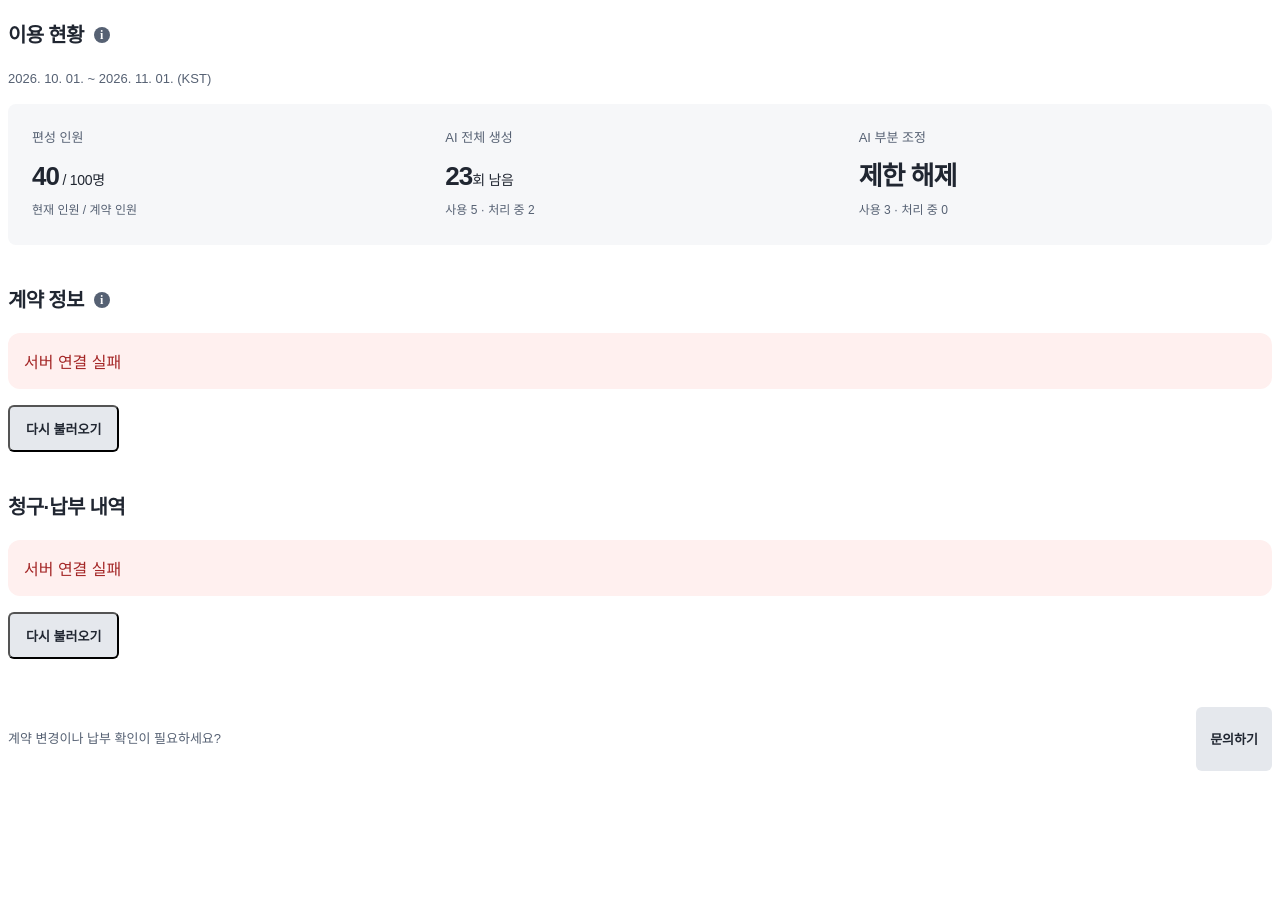
it: hospital usage and contract › shows empty records and retries each failing query independently
Click the button "다시 불러오기" below "계약 정보": coordinates (64, 428) [8,405,119,452]
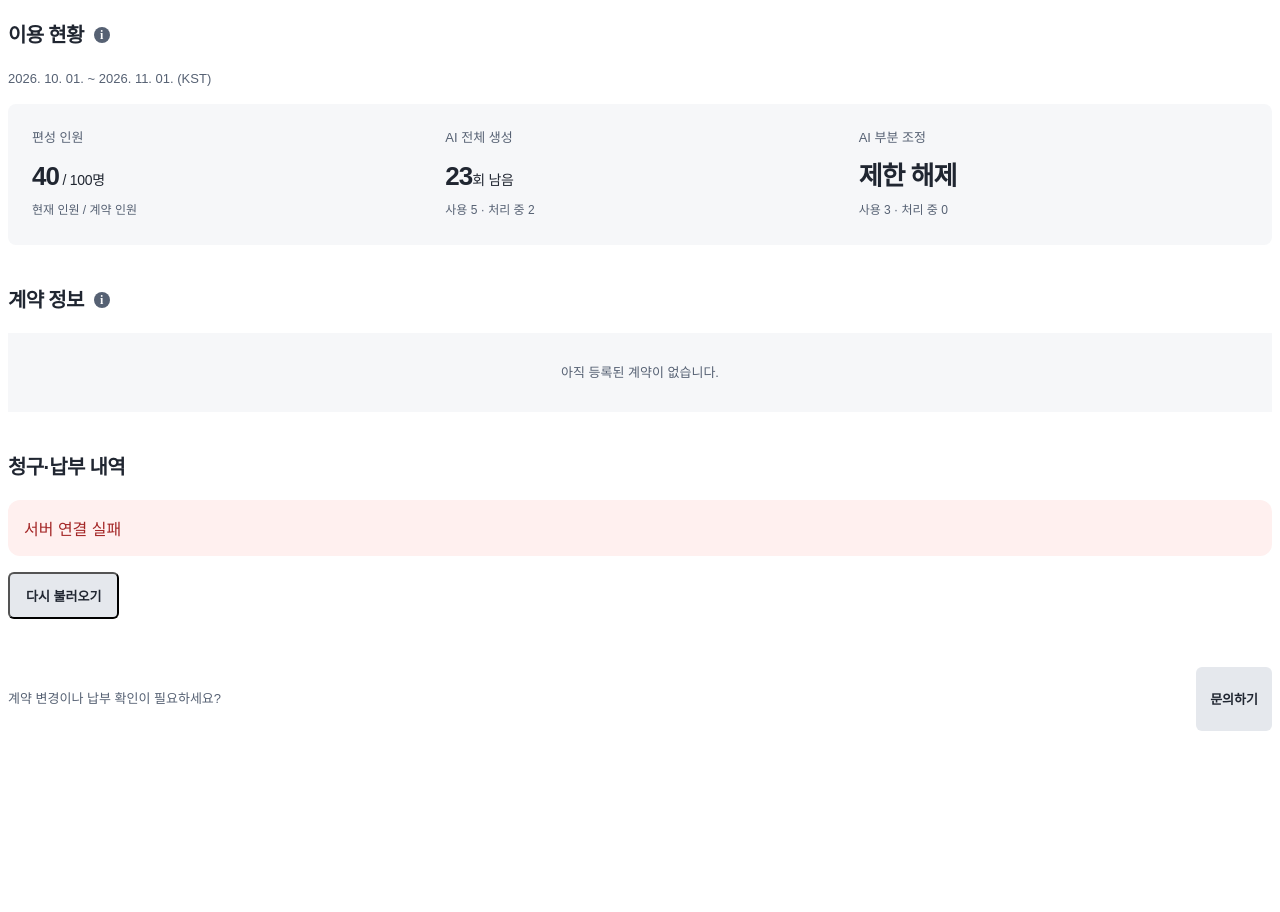
Check: the text "아직 등록된 계약이 없습니다." is shown, box [8,333,1272,412]
Click the button "다시 불러오기": coordinates (64, 596) [8,572,119,619]
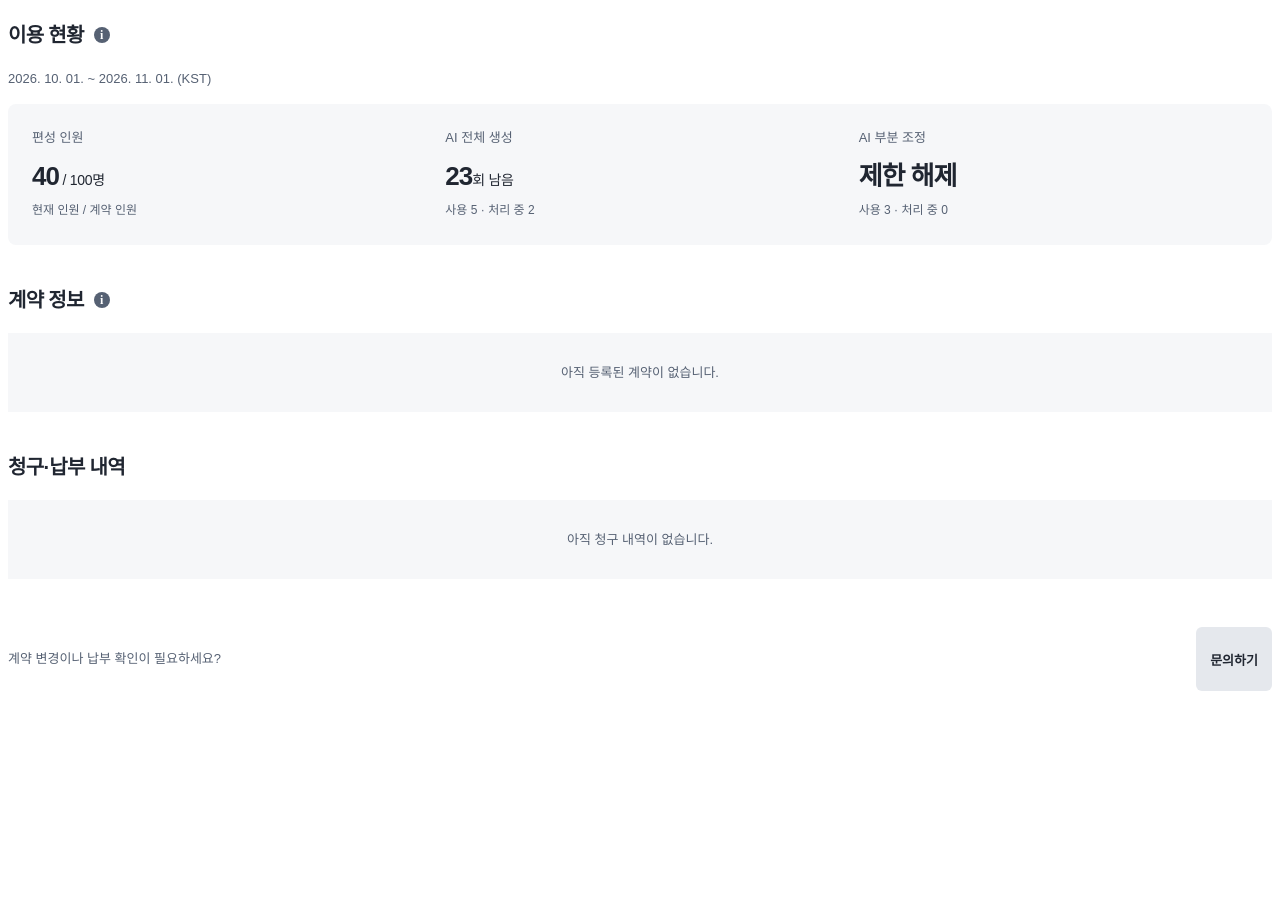
Check: the text "아직 청구 내역이 없습니다." is shown, box [8,500,1272,579]
